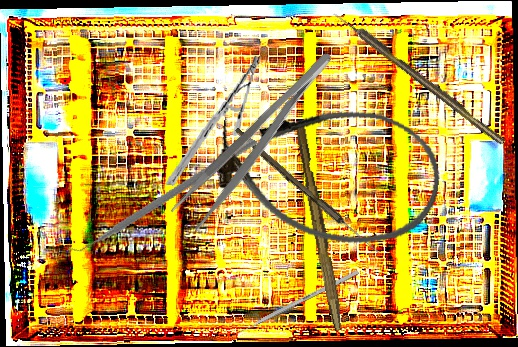Cannula: (207, 87, 449, 258)
Chopper: (60, 83, 259, 304)
Dressing Forceps: (166, 46, 352, 236)
Hook Surgical: (331, 7, 507, 148)
Needle Holder: (165, 47, 263, 194)
Pusher: (228, 269, 360, 340)
Scalpel Handle: (290, 121, 349, 332)
Surgical Spoon: (232, 127, 382, 256)
